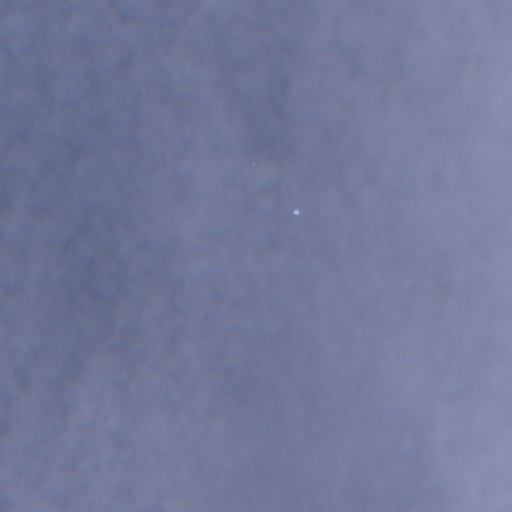Iceberg: (293, 209, 299, 214), (253, 163, 254, 165)
